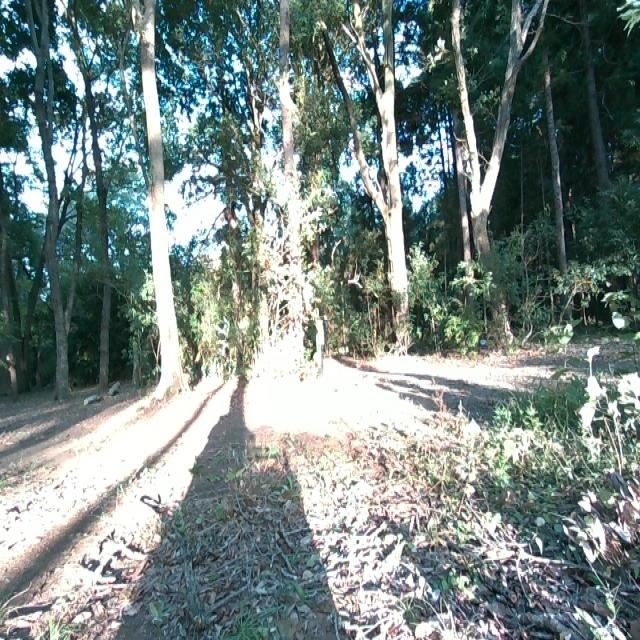bush: (500, 310, 640, 538), (182, 254, 266, 382), (504, 227, 585, 349), (317, 249, 393, 359), (409, 247, 489, 351)
tree: (447, 0, 519, 349), (128, 0, 184, 397), (356, 1, 409, 346), (39, 2, 71, 404), (275, 4, 307, 370), (87, 58, 111, 396)
